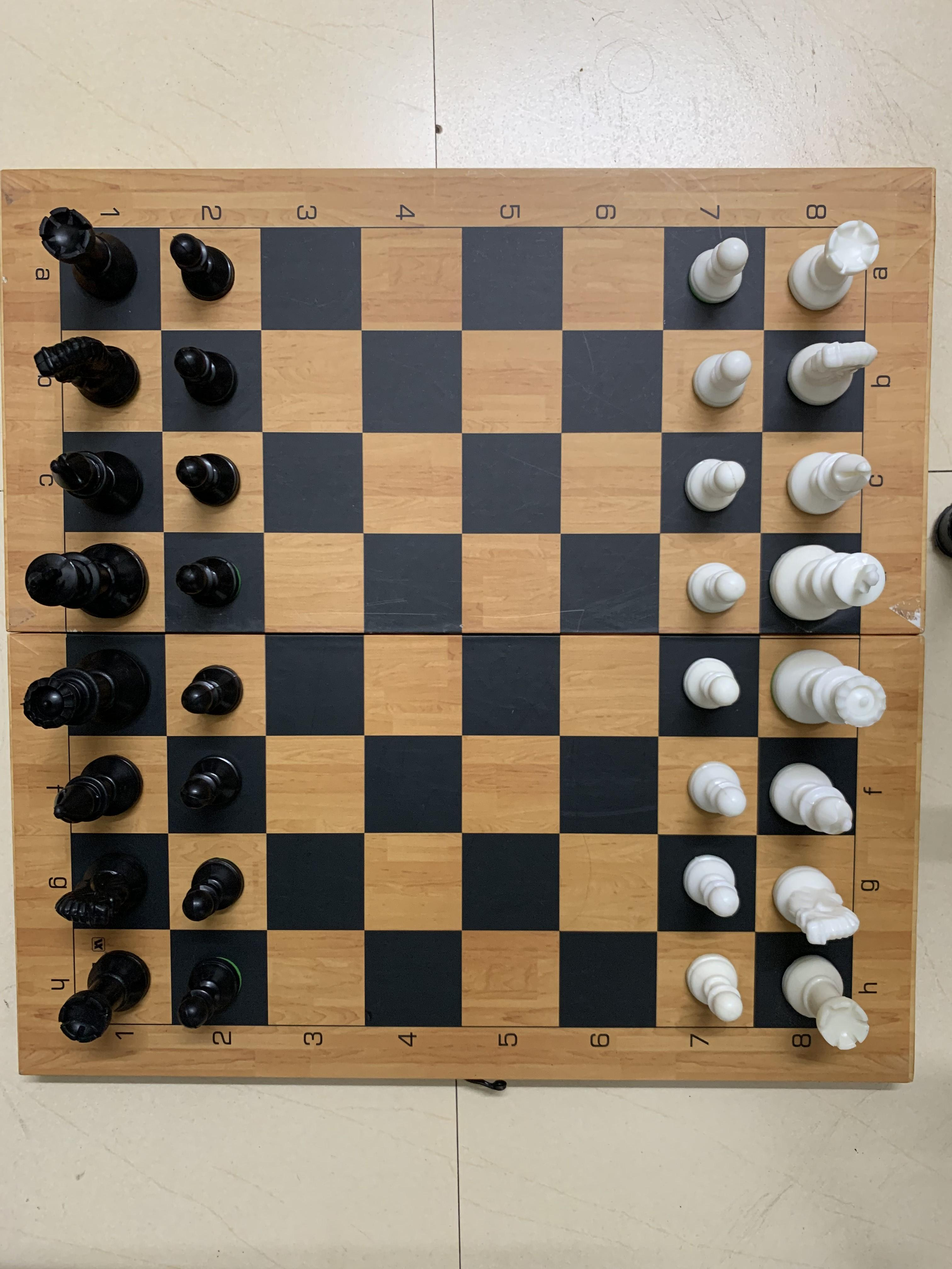black_bishop: (46, 439, 158, 530), (41, 749, 157, 836)
black_king: (22, 531, 158, 629)
black_knight: (30, 320, 157, 421), (47, 849, 159, 943)
black_pawn: (157, 210, 249, 319), (172, 948, 261, 1040), (164, 336, 254, 425), (165, 438, 255, 519), (170, 644, 254, 728), (167, 539, 252, 621), (175, 850, 261, 922), (173, 751, 250, 823)
black_queen: (19, 646, 150, 742)
black_rook: (28, 192, 144, 310), (52, 952, 161, 1047)
white_bishop: (765, 745, 866, 842), (778, 444, 888, 530)
white_king: (760, 537, 900, 634)
white_knight: (765, 852, 872, 954), (774, 336, 883, 425)
white_pawn: (671, 228, 760, 324), (666, 938, 752, 1027), (664, 839, 751, 925), (677, 336, 762, 424), (672, 542, 759, 625), (674, 745, 756, 830), (674, 642, 751, 730), (674, 439, 752, 521)
white_queen: (770, 644, 895, 749)
white_rook: (771, 945, 887, 1053), (782, 210, 893, 319)
